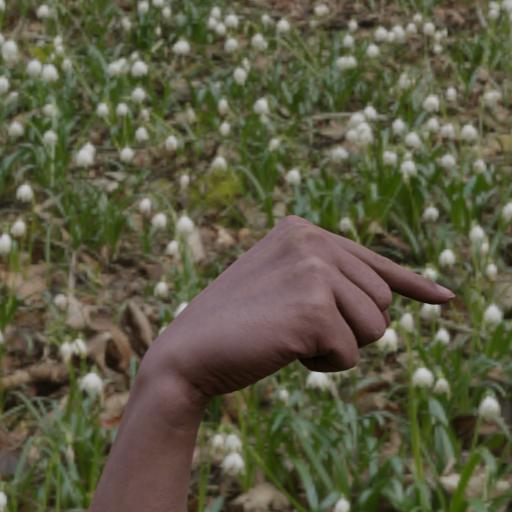G: (122, 210, 459, 446)
